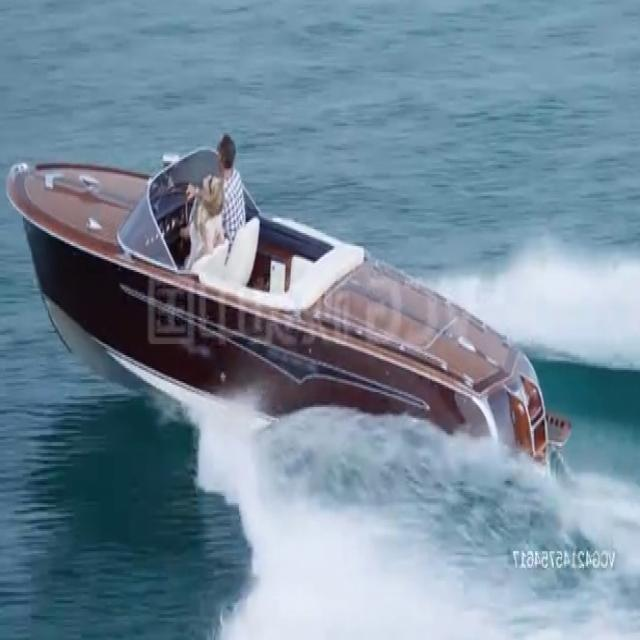houseboat: (12, 126, 565, 479)
